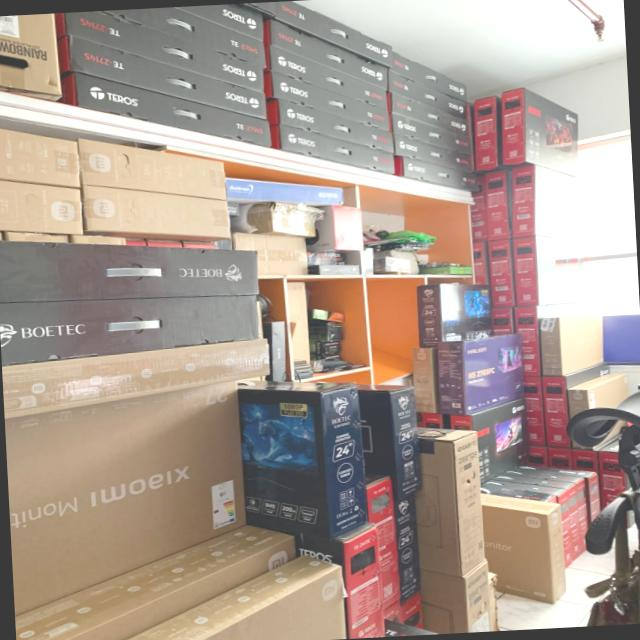caja-monitor: (5, 381, 244, 615), (17, 525, 299, 640), (237, 380, 369, 536), (7, 340, 270, 418), (3, 296, 260, 368), (133, 556, 344, 640), (0, 243, 262, 305), (69, 38, 265, 118), (66, 12, 262, 91), (74, 77, 272, 145), (289, 524, 386, 638), (417, 428, 486, 577), (105, 7, 266, 66), (481, 493, 567, 603), (77, 138, 226, 199), (86, 184, 231, 242), (485, 479, 574, 568), (491, 474, 584, 559), (272, 23, 387, 90), (275, 3, 392, 68), (271, 48, 389, 110), (504, 467, 588, 552), (270, 74, 391, 132), (438, 334, 524, 414), (451, 397, 529, 484), (359, 386, 420, 495), (503, 89, 578, 177), (276, 100, 394, 154), (543, 363, 610, 446), (421, 560, 497, 633), (275, 126, 393, 173), (513, 166, 586, 239), (515, 303, 586, 377), (517, 463, 601, 524), (513, 236, 585, 306), (0, 130, 81, 188), (417, 285, 493, 346), (367, 477, 400, 610), (0, 181, 83, 233), (540, 313, 604, 376), (390, 52, 467, 102), (389, 72, 466, 119), (391, 94, 468, 137), (392, 114, 472, 154), (394, 135, 471, 173), (178, 7, 264, 41), (395, 493, 421, 605), (395, 157, 480, 191), (568, 373, 629, 419), (474, 96, 502, 171), (485, 170, 512, 242), (600, 440, 627, 510), (414, 346, 441, 414), (489, 240, 516, 307), (524, 378, 547, 445), (481, 484, 556, 503), (475, 241, 490, 284), (492, 307, 515, 334), (574, 449, 599, 473), (548, 447, 573, 469), (526, 447, 548, 467)
